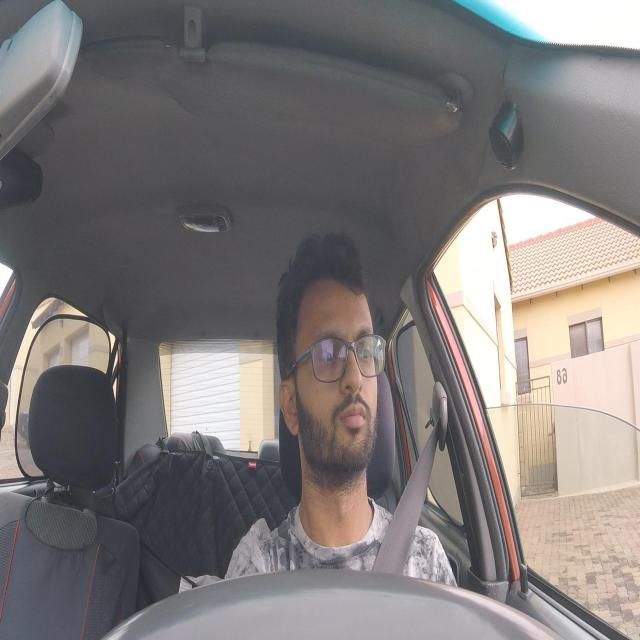open: (315, 325, 341, 380), (354, 324, 375, 373)
